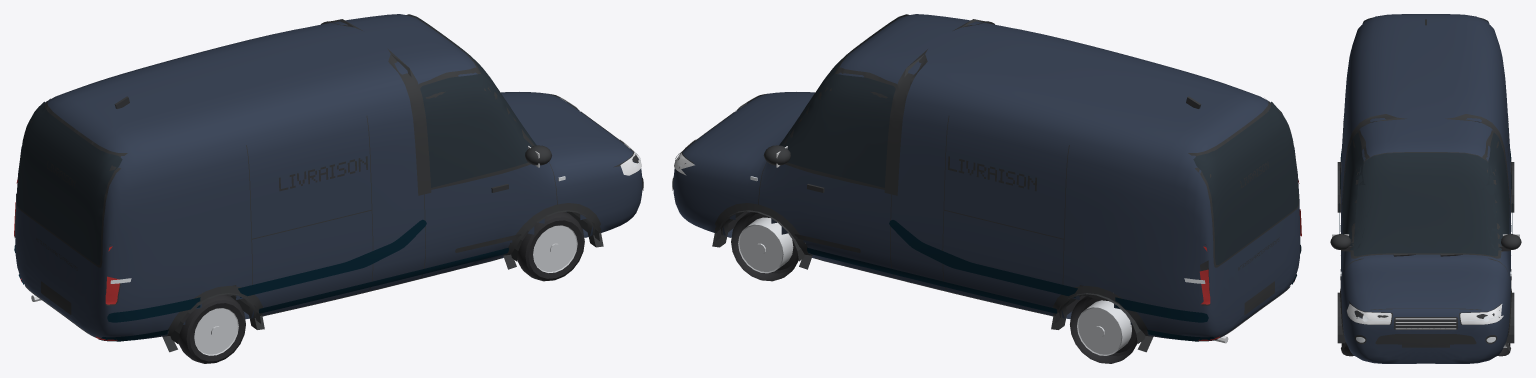
Rendered from livr_bleu.glb.
The picture shows the model from 3 angles, left to right: view 1: azimuth 30°, elevation 25°; view 2: azimuth 150°, elevation 25°; view 3: azimuth 270°, elevation 25°; orthographic projection. The views are drawn at different scales.
Visible parts, largest first — view 1: Body, RearGlass, Glass-1, WheelRR, WheelFR, LbWave-1, Bpillar-1, LbSky-1, ArchTrim-1, ArchTrim-1.001, RgFrame, WinFrame-1 (+1 smaller); view 2: Body, RearGlass, Glass1, WheelFL, WheelRL, LbWave1, Bpillar1, LbSky1, ArchTrim1, ArchTrim1.001, RgFrame, WinFrame1 (+1 smaller); view 3: Body, Windshield, Glass1, Glass-1, Intake, HeadReflector, Grille, WsFrame, Bpillar1, Bpillar-1, HeadBezel, Mirror1 (+7 smaller).
Part boxes in pixels (box(x1,y1,x2,y2)): Body: box(15, 14, 642, 340); RearGlass: box(17, 101, 122, 264); Glass-1: box(420, 74, 536, 187); WheelRR: box(178, 294, 245, 363); WheelFR: box(517, 212, 584, 281); LbWave-1: box(107, 219, 426, 322); Bpillar-1: box(387, 48, 431, 195); LbSky-1: box(98, 248, 508, 341); ArchTrim-1: box(503, 203, 603, 269); ArchTrim-1.001: box(162, 285, 264, 352); RgFrame: box(16, 98, 127, 267); WinFrame-1: box(418, 67, 532, 189); Body: box(673, 14, 1300, 340); RearGlass: box(1193, 101, 1298, 264); Glass1: box(779, 74, 895, 187); WheelFL: box(731, 212, 798, 281); WheelRL: box(1070, 294, 1137, 363); LbWave1: box(889, 220, 1208, 322); Bpillar1: box(884, 49, 927, 195); LbSky1: box(807, 247, 1217, 341); ArchTrim1: box(712, 203, 812, 269); ArchTrim1.001: box(1051, 285, 1153, 352); RgFrame: box(1188, 99, 1298, 267); WinFrame1: box(785, 67, 897, 189); Body: box(1341, 14, 1510, 363); Windshield: box(1353, 152, 1498, 256); Glass1: box(1477, 132, 1509, 250); Glass-1: box(1342, 132, 1371, 250); Intake: box(1375, 334, 1476, 344); HeadReflector: box(1347, 304, 1503, 324); Grille: box(1394, 317, 1457, 329); WsFrame: box(1350, 152, 1501, 258); Bpillar1: box(1445, 114, 1510, 208); Bpillar-1: box(1341, 114, 1406, 208); HeadBezel: box(1348, 300, 1500, 324); Mirror1: box(1501, 234, 1521, 249).
Bounding box in the file's own units: 5.62 × 2.34 × 2.15.
